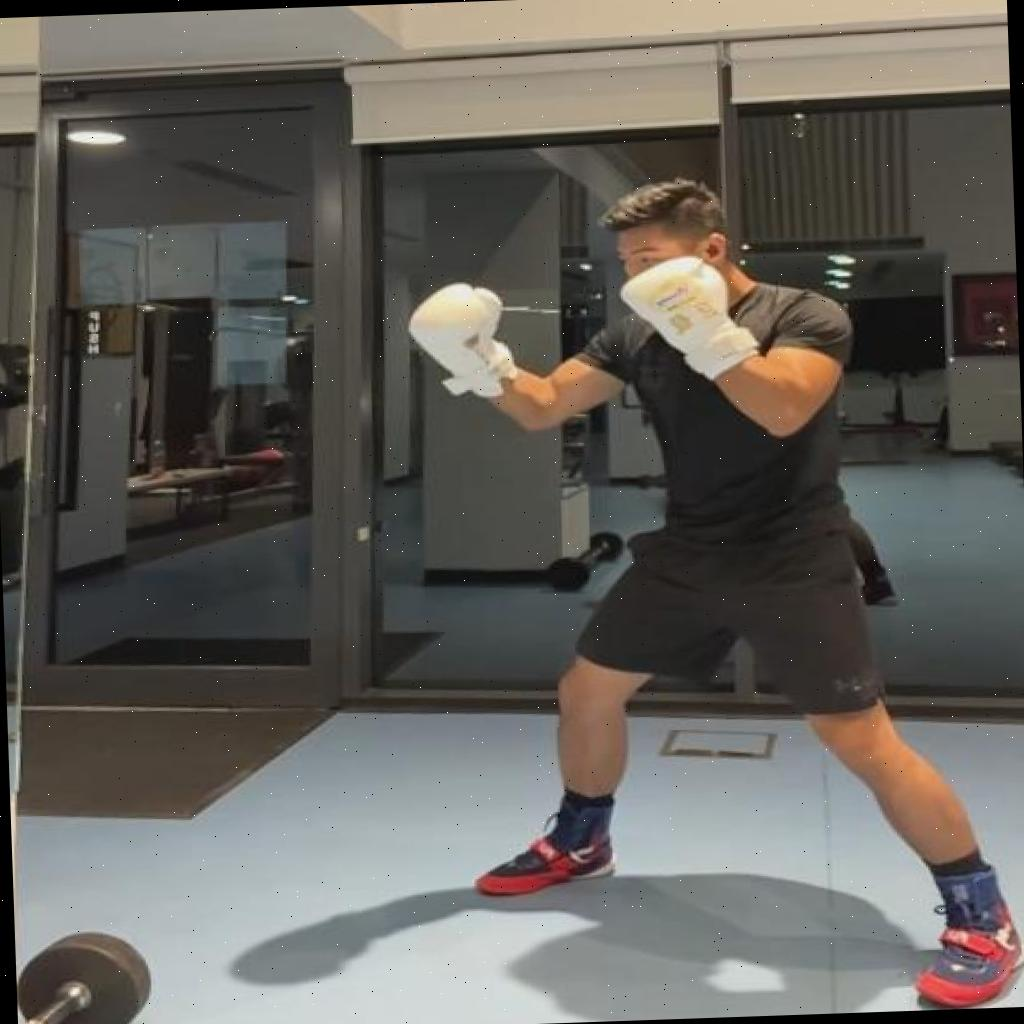uppercut: (402, 163, 1024, 1024)
